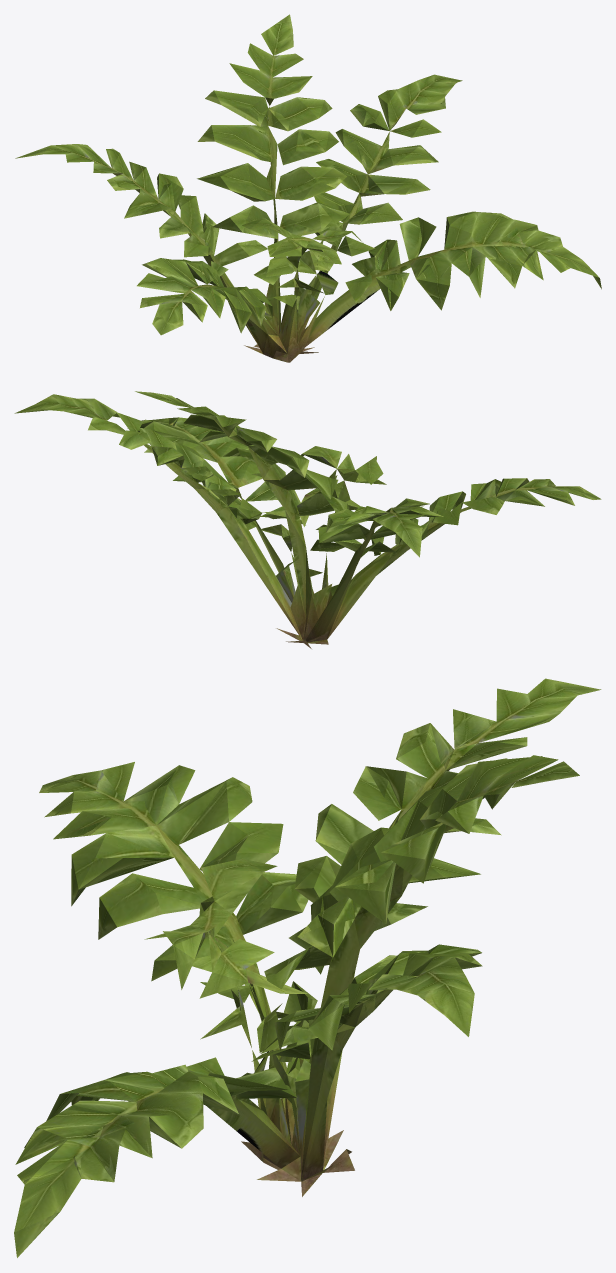
Rendered from co_compact_fern.glb.
The picture shows the model from 3 angles, top to bottom: view 1: azimuth 30°, elevation 25°; view 2: azimuth 150°, elevation 25°; view 3: azimuth 270°, elevation 25°; orthographic projection. The views are drawn at different scales.
Parts seen in each view (by area): view 1: output_unwrapped; view 2: output_unwrapped; view 3: output_unwrapped.
Boxes of the visible parts, bbox=[...] form: output_unwrapped: bbox=[15, 14, 601, 362]; output_unwrapped: bbox=[14, 391, 601, 648]; output_unwrapped: bbox=[14, 678, 601, 1257].
Size of the model in its own units: 1.86 by 1.08 by 1.23.
Materials: 1 (1 with a texture image).
